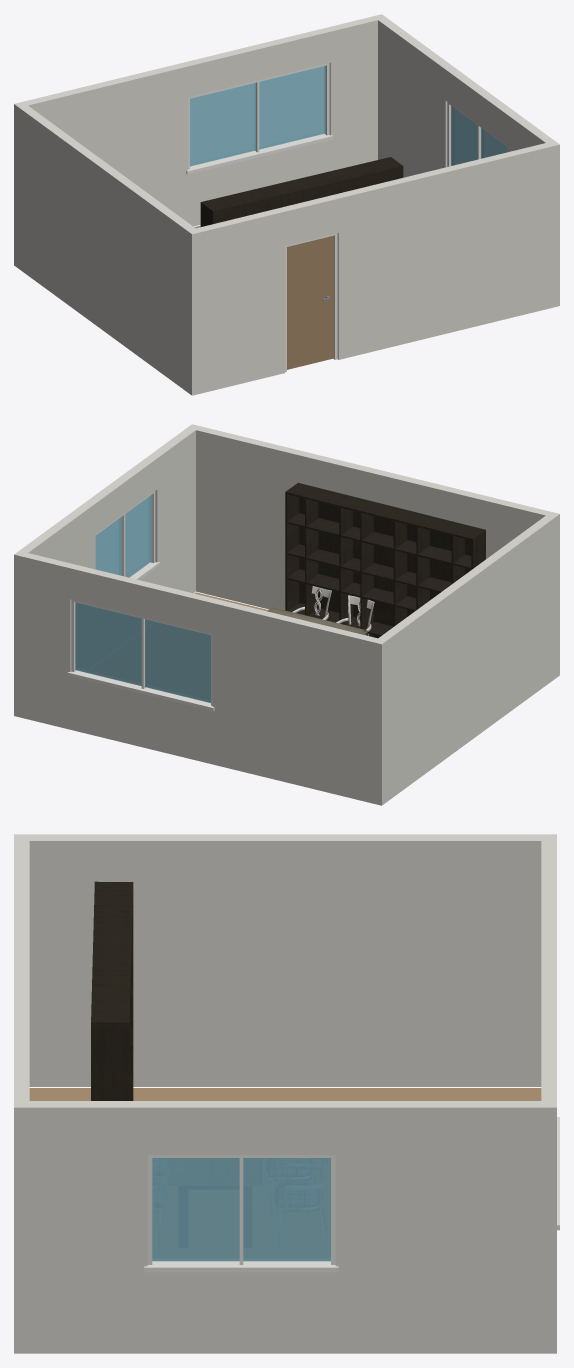
File: instructscene.glb
3 renders of one model, top to bottom at view 1: azimuth 30°, elevation 25°; view 2: azimuth 150°, elevation 25°; view 3: azimuth 270°, elevation 25°, orthographic. The views are drawn at different scales.
Visible parts, largest first — view 1: wall|scenesmith_029__R00|0, wall|scenesmith_029__R00|1, wall|scenesmith_029__R00|2, wall|scenesmith_029__R00|3, wall|scenesmith_029__R00|1 Window 0 | glazing, wall|scenesmith_029__R00|0 Door 0 | wood leaf, raw_model.005, wall|scenesmith_029__R00|1 Window 0 | jamb, wall|scenesmith_029__R00|3 Window 0 | glazing, wall|scenesmith_029__R00|0 Door 0 | jamb, wall|scenesmith_029__R00|3 Window 0 | jamb; view 2: wall|scenesmith_029__R00|1, wall|scenesmith_029__R00|2, wall|scenesmith_029__R00|0, raw_model.005, wall|scenesmith_029__R00|3, wall|scenesmith_029__R00|1 Window 0 | glazing, wall|scenesmith_029__R00|3 Window 0 | glazing, wall|scenesmith_029__R00|1 Window 0 | jamb, wall|scenesmith_029__R00|3 Window 0 | jamb, raw_model, raw_model.002; view 3: wall|scenesmith_029__R00|2, wall|scenesmith_029__R00|3, wall|scenesmith_029__R00|3 Window 0 | glazing, raw_model.005, wall|scenesmith_029__R00|0, wall|scenesmith_029__R00|1, floor, wall|scenesmith_029__R00|3 Window 0 | jamb.
Boxes of the visible parts, bbox=[...] form: wall|scenesmith_029__R00|0: bbox=[187, 141, 559, 393]; wall|scenesmith_029__R00|1: bbox=[14, 16, 377, 268]; wall|scenesmith_029__R00|2: bbox=[14, 103, 200, 395]; wall|scenesmith_029__R00|3: bbox=[373, 14, 559, 307]; wall|scenesmith_029__R00|1 Window 0 | glazing: bbox=[190, 65, 325, 166]; wall|scenesmith_029__R00|0 Door 0 | wood leaf: bbox=[287, 235, 334, 369]; raw_model.005: bbox=[200, 157, 403, 226]; wall|scenesmith_029__R00|1 Window 0 | jamb: bbox=[186, 63, 333, 174]; wall|scenesmith_029__R00|3 Window 0 | glazing: bbox=[451, 106, 507, 165]; wall|scenesmith_029__R00|0 Door 0 | jamb: bbox=[285, 233, 337, 371]; wall|scenesmith_029__R00|3 Window 0 | jamb: bbox=[447, 102, 507, 166]; wall|scenesmith_029__R00|1: bbox=[23, 553, 386, 805]; wall|scenesmith_029__R00|2: bbox=[373, 514, 559, 805]; wall|scenesmith_029__R00|0: bbox=[187, 424, 559, 610]; raw_model.005: bbox=[285, 483, 485, 638]; wall|scenesmith_029__R00|3: bbox=[14, 428, 195, 717]; wall|scenesmith_029__R00|1 Window 0 | glazing: bbox=[75, 602, 210, 702]; wall|scenesmith_029__R00|3 Window 0 | glazing: bbox=[95, 495, 151, 577]; wall|scenesmith_029__R00|1 Window 0 | jamb: bbox=[67, 599, 214, 711]; wall|scenesmith_029__R00|3 Window 0 | jamb: bbox=[95, 491, 159, 579]; raw_model: bbox=[292, 586, 374, 635]; raw_model.002: bbox=[267, 607, 368, 634]; wall|scenesmith_029__R00|2: bbox=[29, 834, 556, 1086]; wall|scenesmith_029__R00|3: bbox=[29, 1101, 556, 1353]; wall|scenesmith_029__R00|3 Window 0 | glazing: bbox=[152, 1158, 330, 1261]; raw_model.005: bbox=[91, 881, 133, 1100]; wall|scenesmith_029__R00|0: bbox=[14, 834, 29, 1353]; wall|scenesmith_029__R00|1: bbox=[541, 834, 556, 1353]; floor: bbox=[29, 1088, 541, 1100]; wall|scenesmith_029__R00|3 Window 0 | jamb: bbox=[144, 1155, 338, 1272].
Size of the model in its own units: 6.23 by 2.61 by 5.23.
9 materials, 3 textured.
